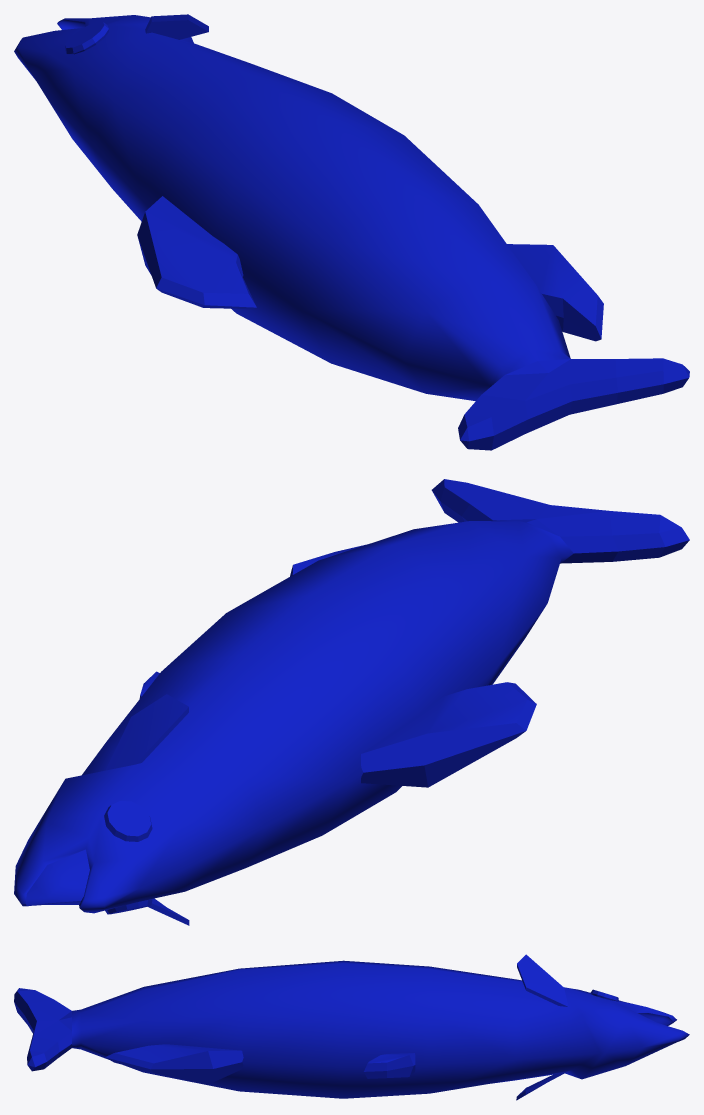
Rendered from Fish.FBX.
The picture shows the model from 3 angles, top to bottom: view 1: azimuth 30°, elevation 25°; view 2: azimuth 150°, elevation 25°; view 3: azimuth 270°, elevation 25°; orthographic projection. The views are drawn at different scales.
Parts seen in each view (by area): view 1: fish; view 2: fish; view 3: fish.
Part boxes in pixels (left/top/right/bottom): fish: left=14, top=14, right=689, bottom=450; fish: left=14, top=479, right=689, bottom=925; fish: left=14, top=954, right=689, bottom=1100.
Size of the model in its own units: 21.93 by 14 by 62.53.
